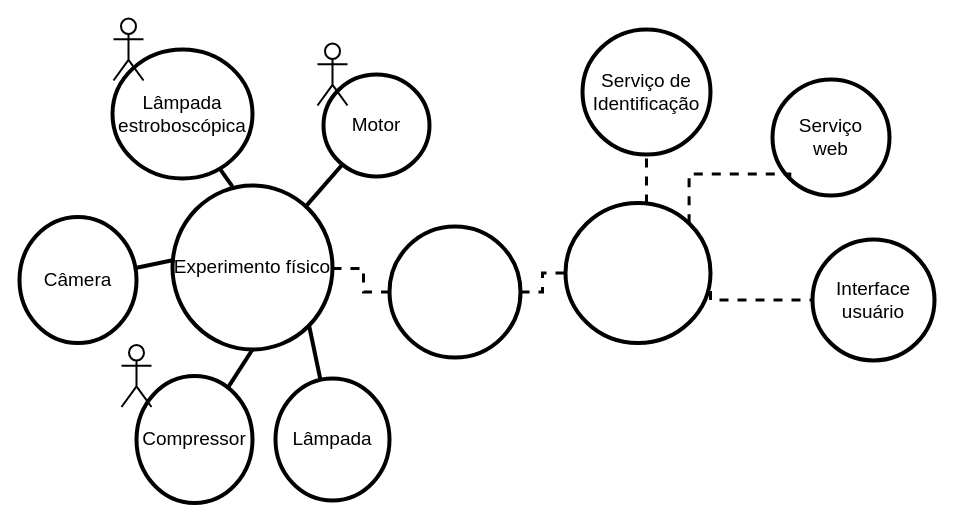
Some shapes in this 953 by 522 pixel diagram are drawn without their labels. Here are the shapes that lost their labels. From the top down, the centre of each, then its label:
point (454, 291): Broker
point (637, 272): Gerenciador de dados
